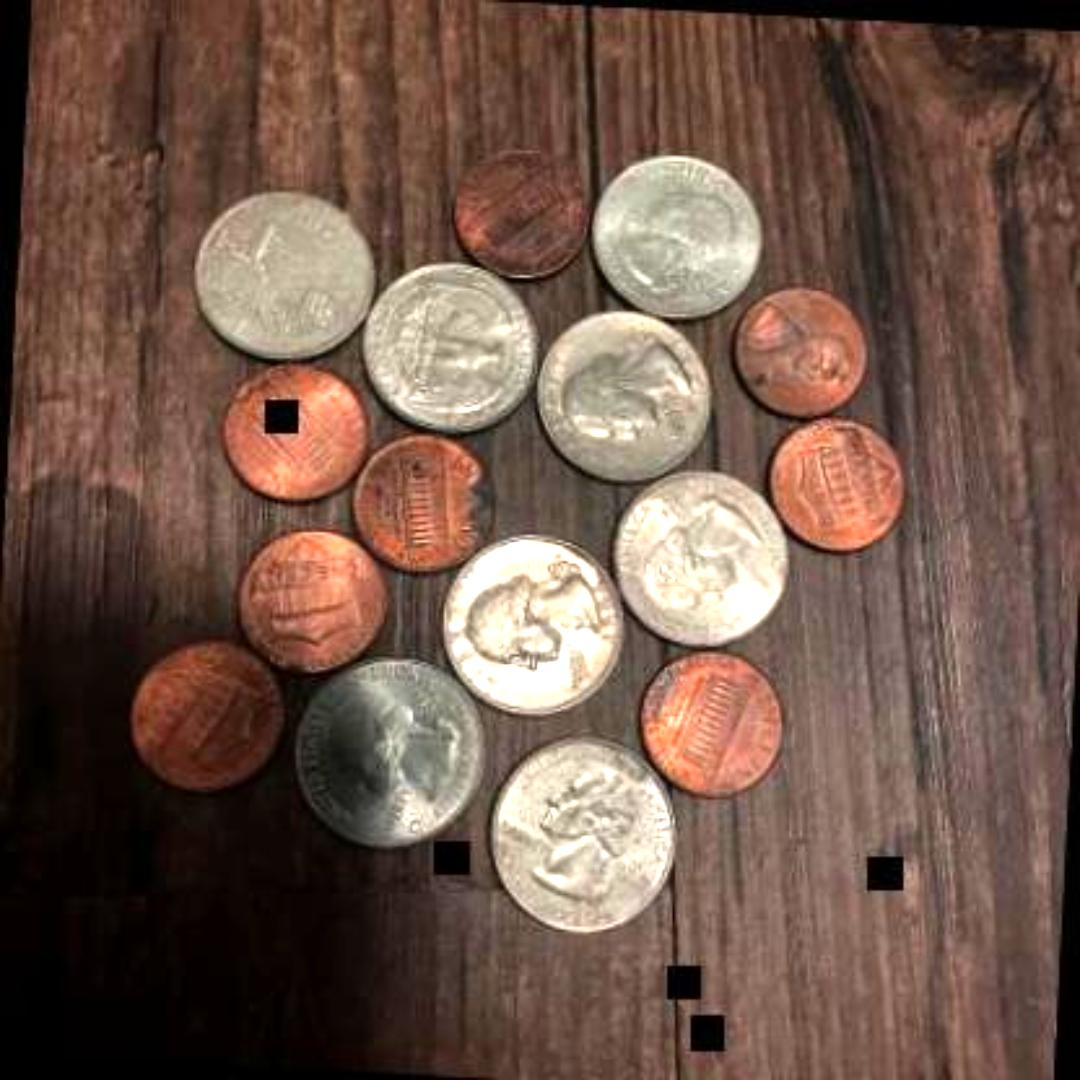Penny: (125, 634, 285, 792), (230, 520, 396, 670), (342, 425, 502, 578), (634, 639, 786, 799), (216, 355, 370, 505), (756, 410, 909, 557), (444, 138, 594, 278), (727, 274, 872, 414)
Quarter: (281, 642, 493, 850), (477, 726, 684, 932), (432, 522, 630, 714), (351, 251, 543, 443), (184, 175, 384, 359), (604, 457, 790, 646), (524, 304, 714, 480), (584, 142, 764, 322)
